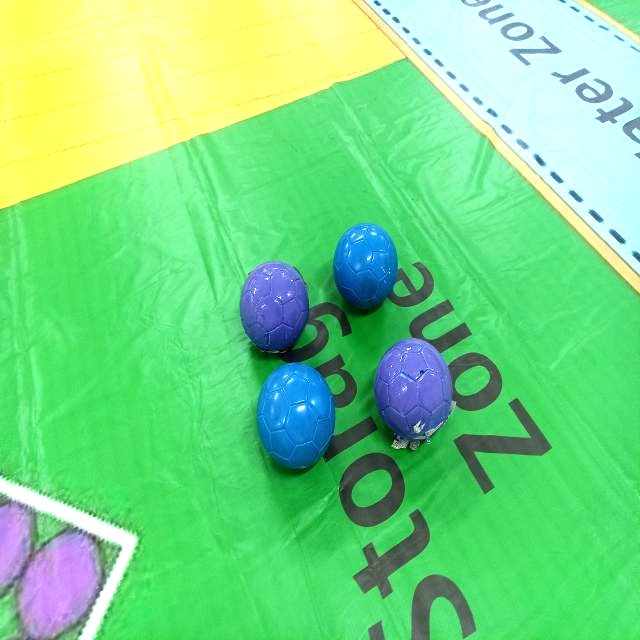blue_ball: (256, 364, 331, 466), (336, 223, 397, 312)
purple_ball: (374, 338, 452, 436), (240, 263, 312, 349)
